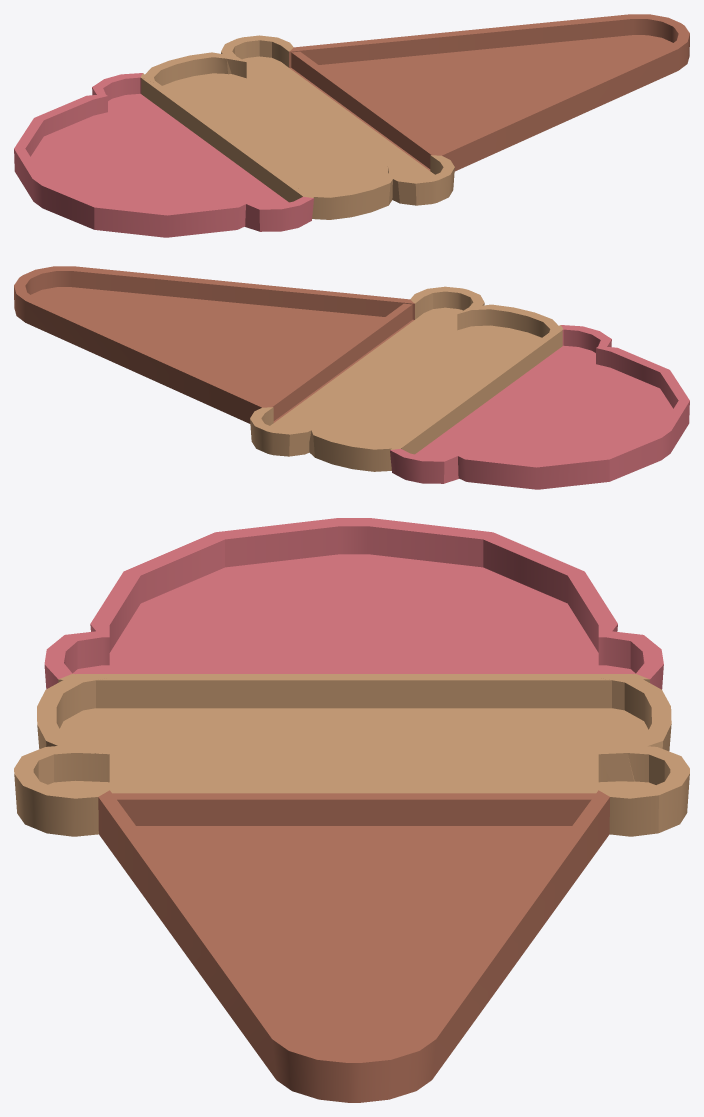
Rendered from Cone Ice Cream Color.fbx.
The picture shows the model from 3 angles, top to bottom: view 1: azimuth 30°, elevation 25°; view 2: azimuth 150°, elevation 25°; view 3: azimuth 270°, elevation 25°; orthographic projection. The views are drawn at different scales.
Visible parts, largest first — view 1: Cone Color; view 2: Cone Color; view 3: Cone Color.
Part boxes in pixels (x1=…): Cone Color: x1=14, y1=14, x2=689, y2=237; Cone Color: x1=14, y1=266, x2=689, y2=489; Cone Color: x1=14, y1=518, x2=689, y2=1102.
Size of the model in its own units: 606 by 318 by 20.77.
1 material, 1 textured.
